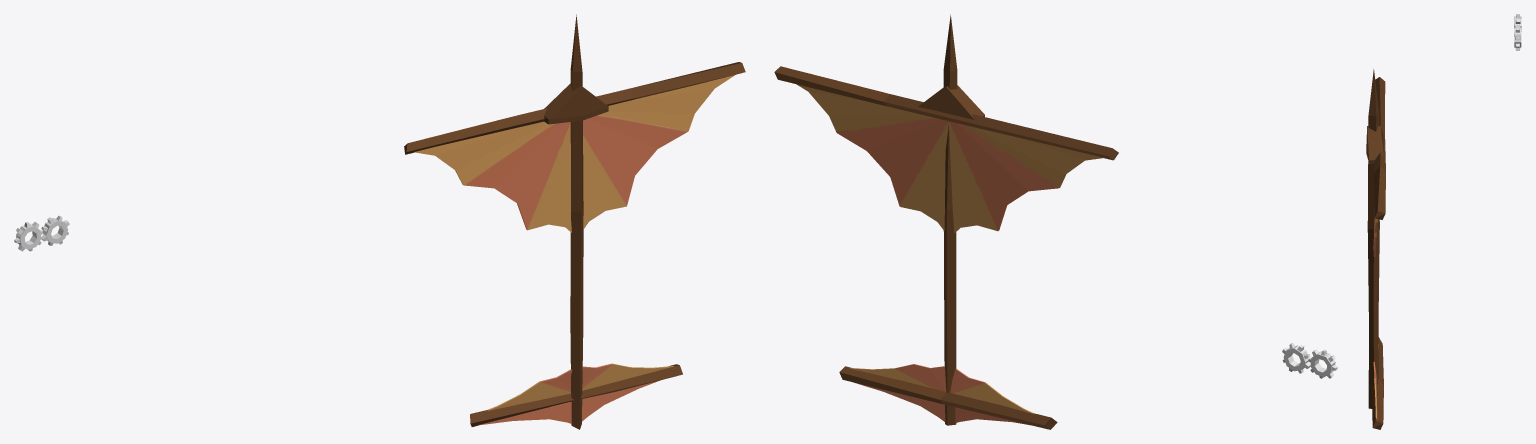
Rendered from GLIDER.fbx.
The picture shows the model from 3 angles, left to right: view 1: azimuth 30°, elevation 25°; view 2: azimuth 150°, elevation 25°; view 3: azimuth 270°, elevation 25°; orthographic projection. The views are drawn at different scales.
Parts seen in each view (by area): view 1: flap wings, glider skeleton, flap tail top, flap tail bot; view 2: flap wings, glider skeleton, flap tail top, flap tail bot, Cylinder, Cylinder.001; view 3: glider skeleton, Cylinder.
Boxes of the visible parts, x1,y1,x2,y2 form: flap wings: [414, 74, 735, 232]; glider skeleton: [404, 14, 745, 429]; flap tail top: [487, 363, 674, 410]; flap tail bot: [477, 380, 659, 425]; flap wings: [797, 84, 1103, 232]; glider skeleton: [774, 14, 1118, 429]; flap tail top: [849, 364, 1033, 414]; flap tail bot: [853, 382, 1028, 424]; Cylinder: [1282, 343, 1310, 373]; Cylinder.001: [1308, 349, 1337, 378]; glider skeleton: [1366, 69, 1385, 429]; Cylinder: [1514, 24, 1521, 50].
Size of the model in its own units: 387 by 238 by 98.45.
